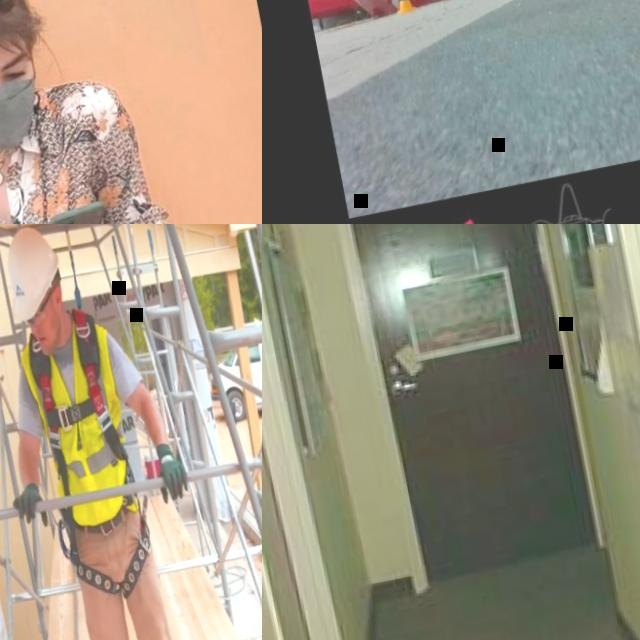Hardhat: (0, 224, 70, 326)
Mask: (0, 78, 42, 157)
NO-Mask: (36, 320, 67, 356)
NO-Safety Vest: (0, 105, 142, 224)
Person: (0, 224, 230, 640), (0, 0, 262, 224)
Safety Cone: (392, 0, 417, 14)
Safety Vest: (14, 308, 144, 529)
vehicle: (196, 303, 262, 432)
